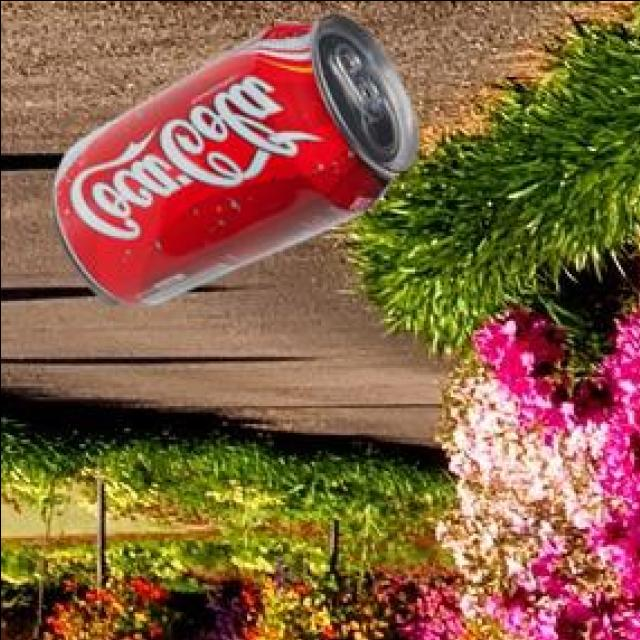logam: (48, 17, 411, 310)
